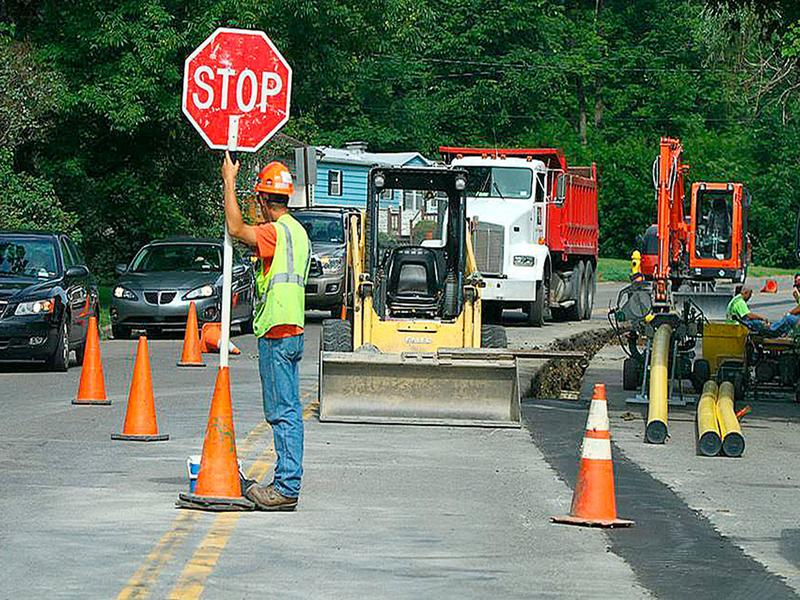Cone: (175, 366, 269, 506), (111, 335, 172, 441), (72, 317, 113, 405), (175, 302, 206, 367)
